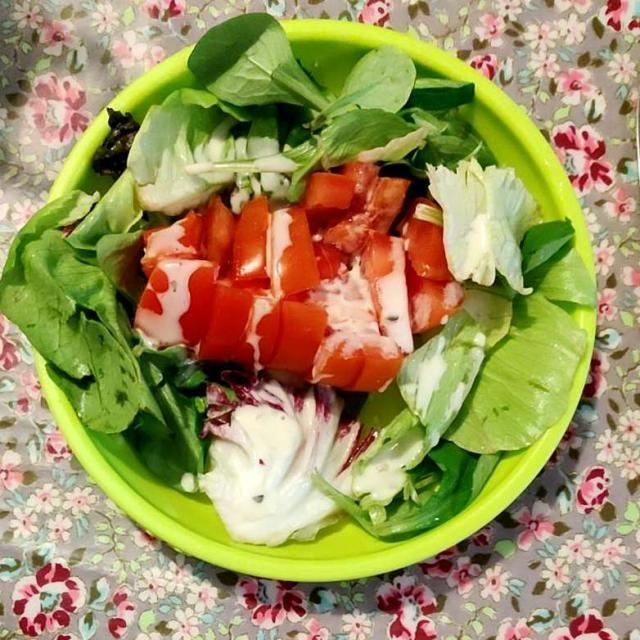salad: (28, 43, 607, 557)
tomato: (126, 162, 478, 397)
